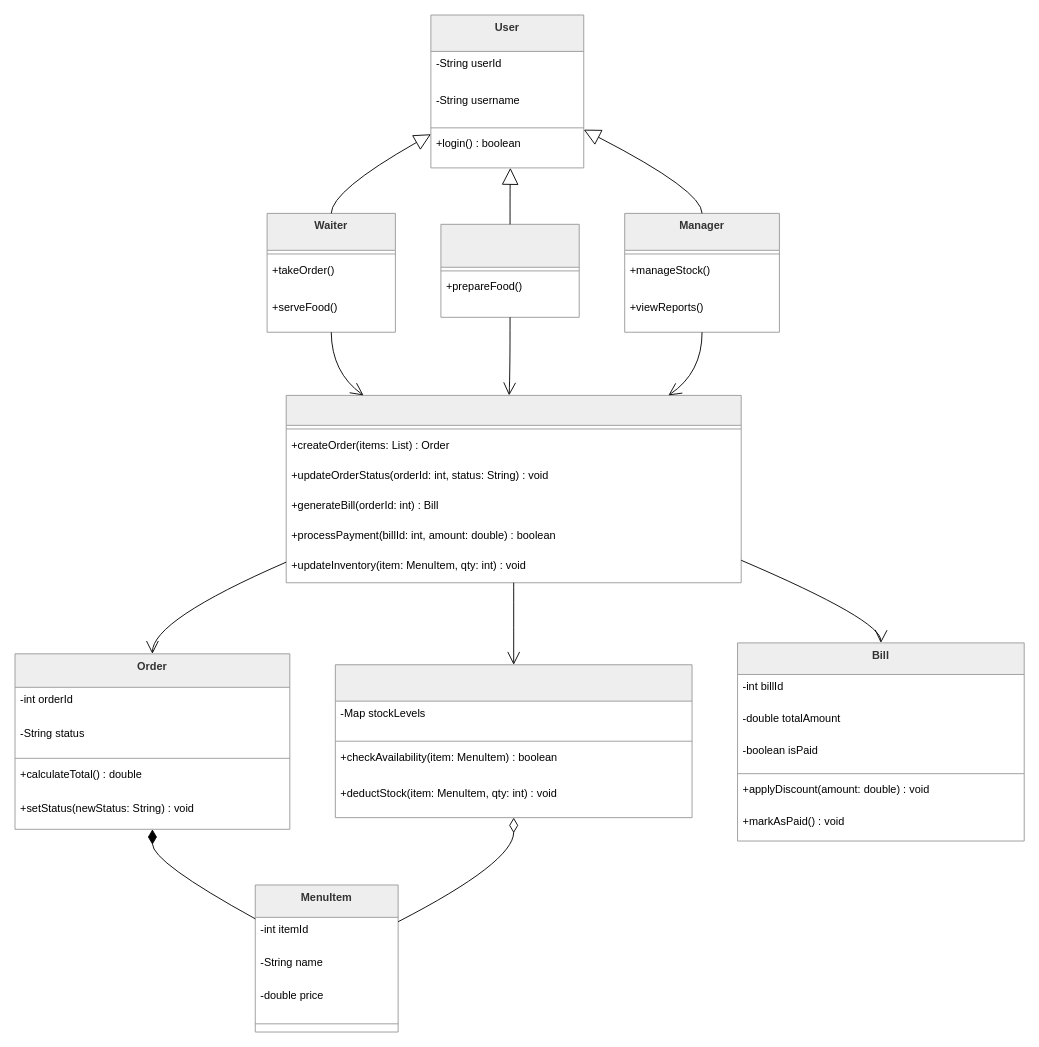
The diagram is 1039 pixels wide and 1047 high, and some of its shapes have lost their labels. The box of each missing label's shape, as (x1, y1, x2, y2) in pixels:
Chef: (440, 223, 579, 317)
Inventory: (334, 664, 692, 818)
RestaurantController: (285, 394, 741, 583)
